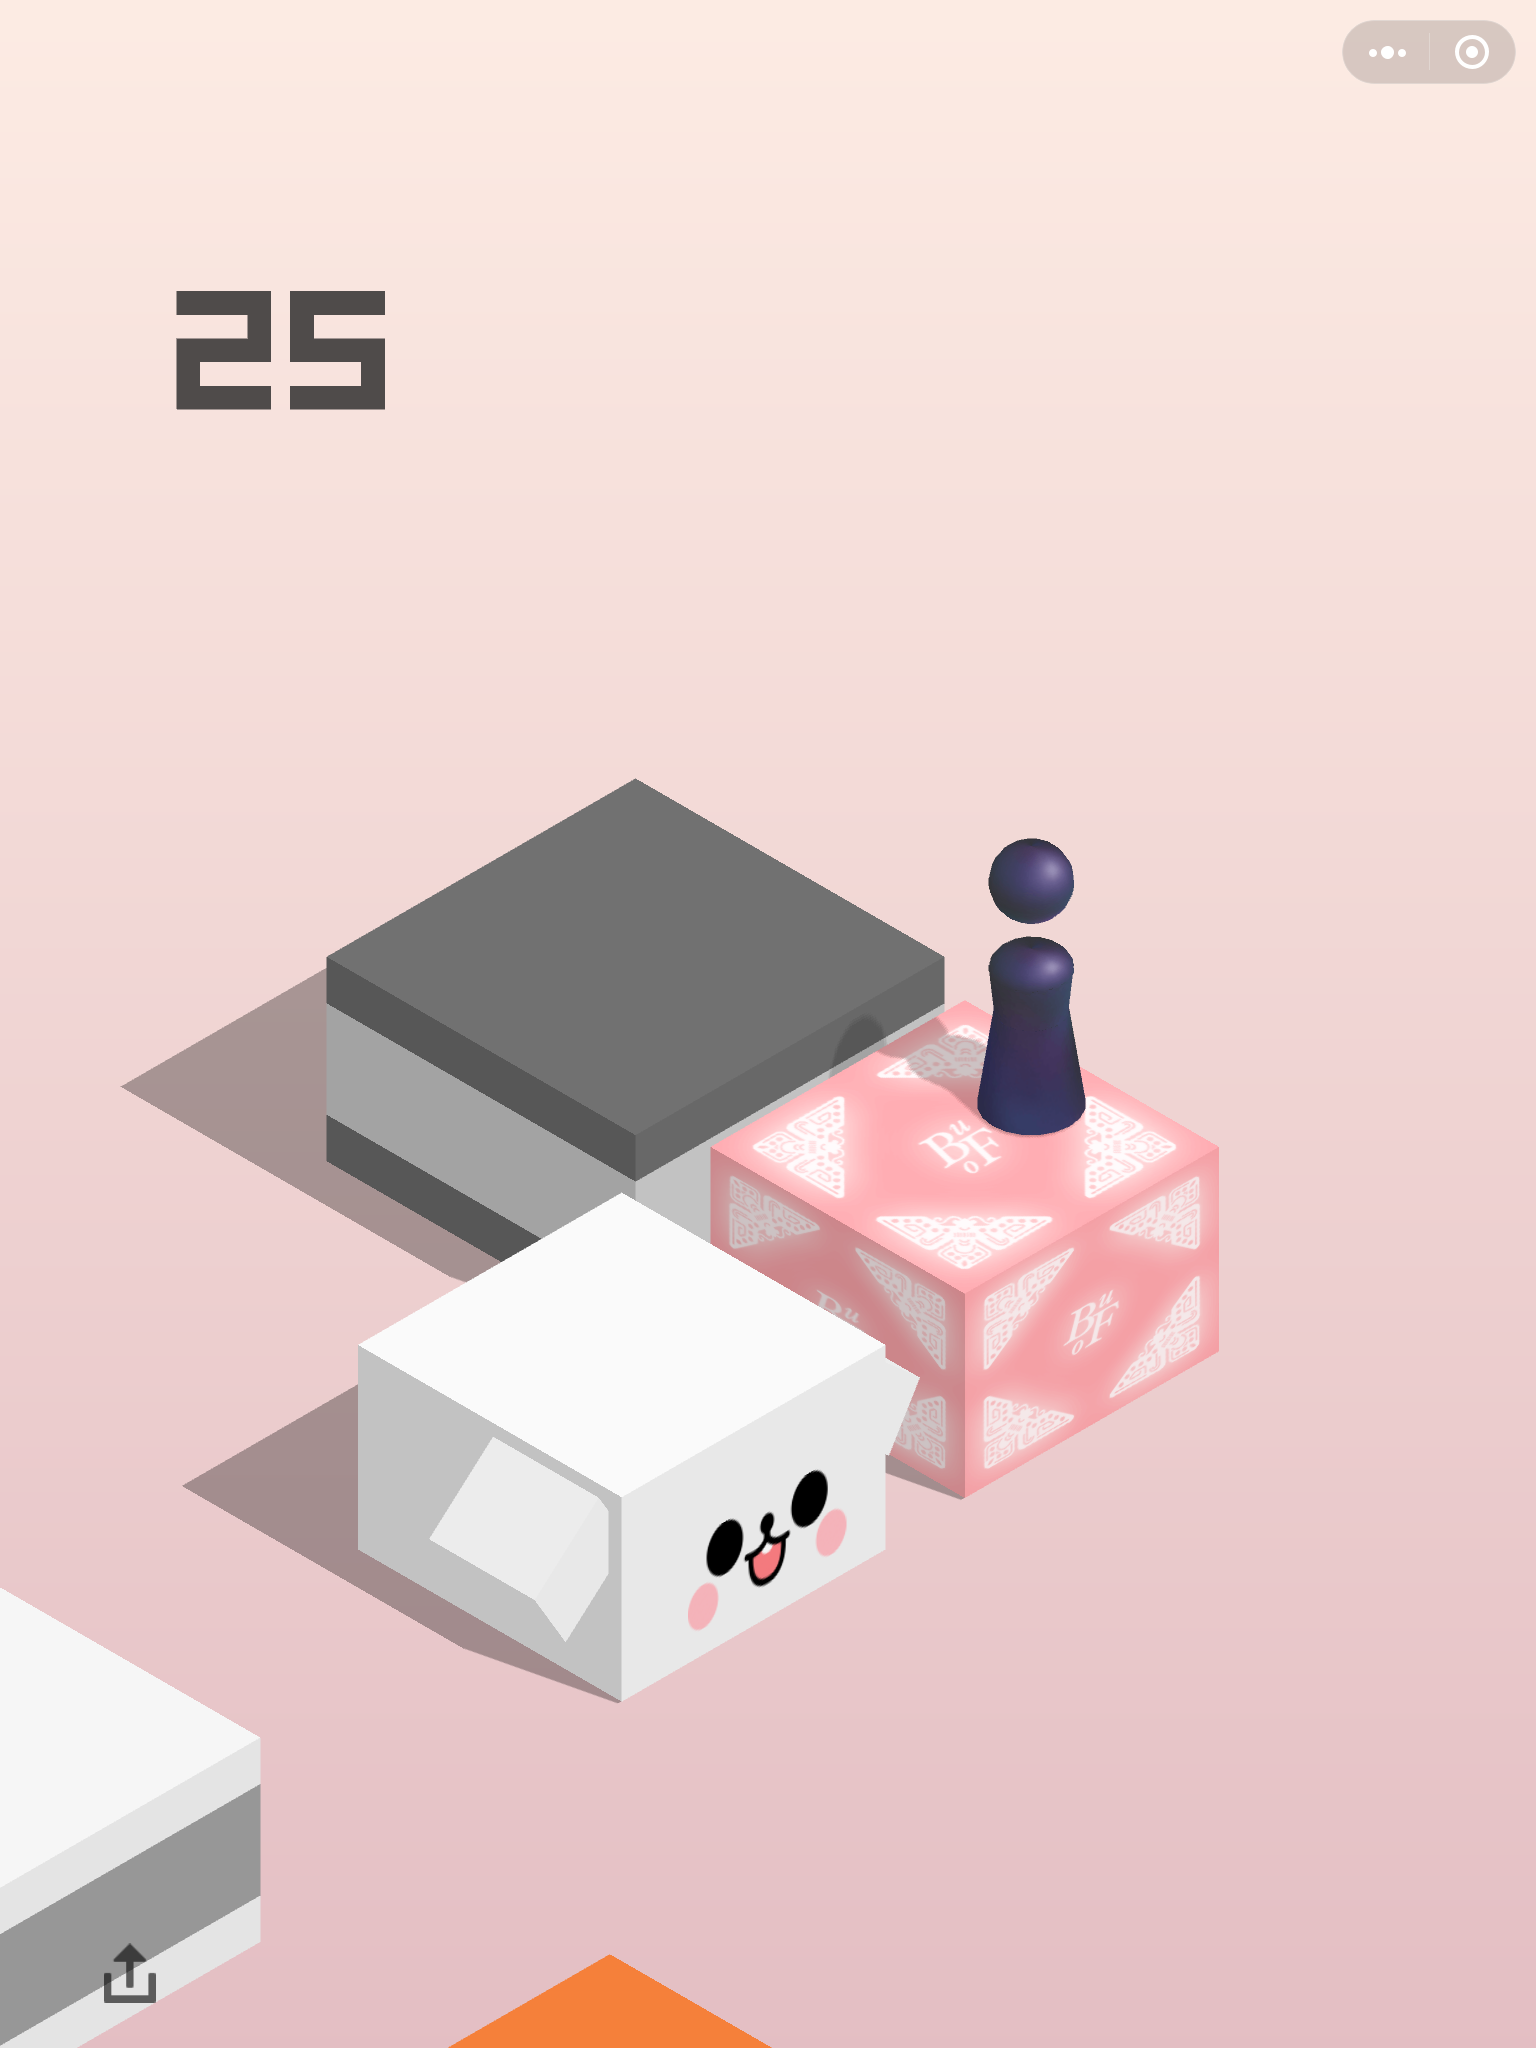f: (318, 766, 958, 1305), (350, 1180, 928, 1708), (705, 993, 1233, 1508), (3, 1567, 263, 2048)
r: (971, 822, 1092, 1138)
